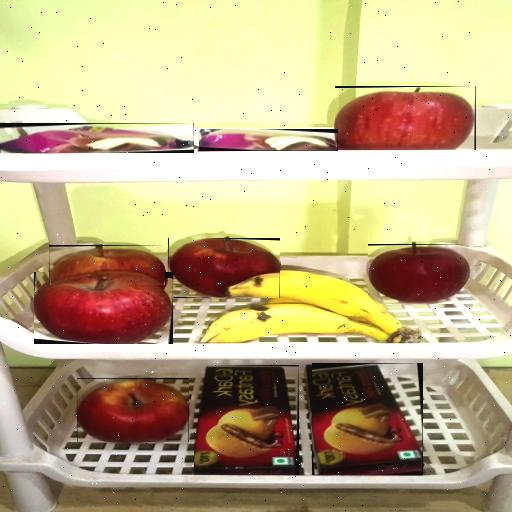Apple: (34, 272, 173, 344), (335, 86, 476, 150), (77, 378, 189, 442), (168, 238, 280, 298), (368, 244, 470, 304), (49, 245, 165, 285)
Choco Fills: (312, 363, 423, 475), (194, 365, 299, 475)
Choco Pie: (0, 123, 194, 153), (199, 129, 338, 151)
